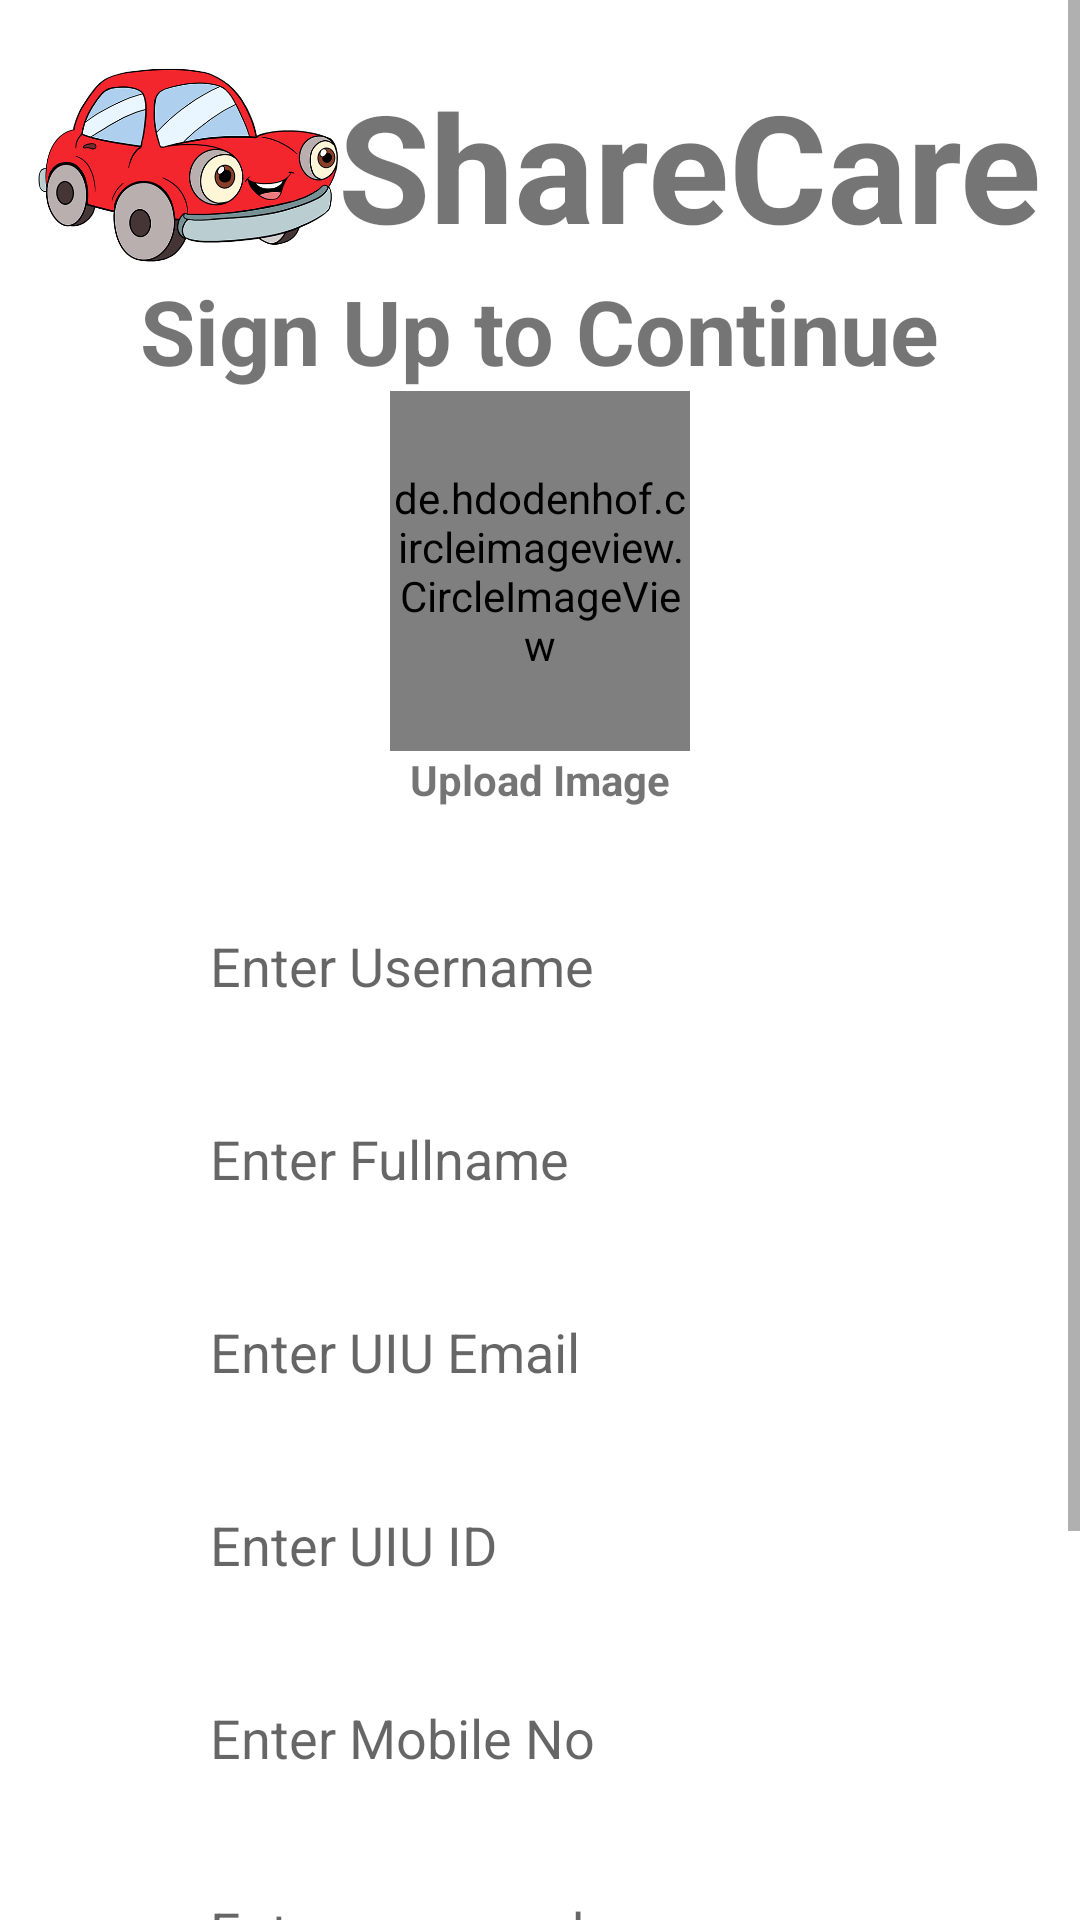

Point at icon controls on the screen. Image size 1080*1920, points as (x,y).
carr: (188,165)
